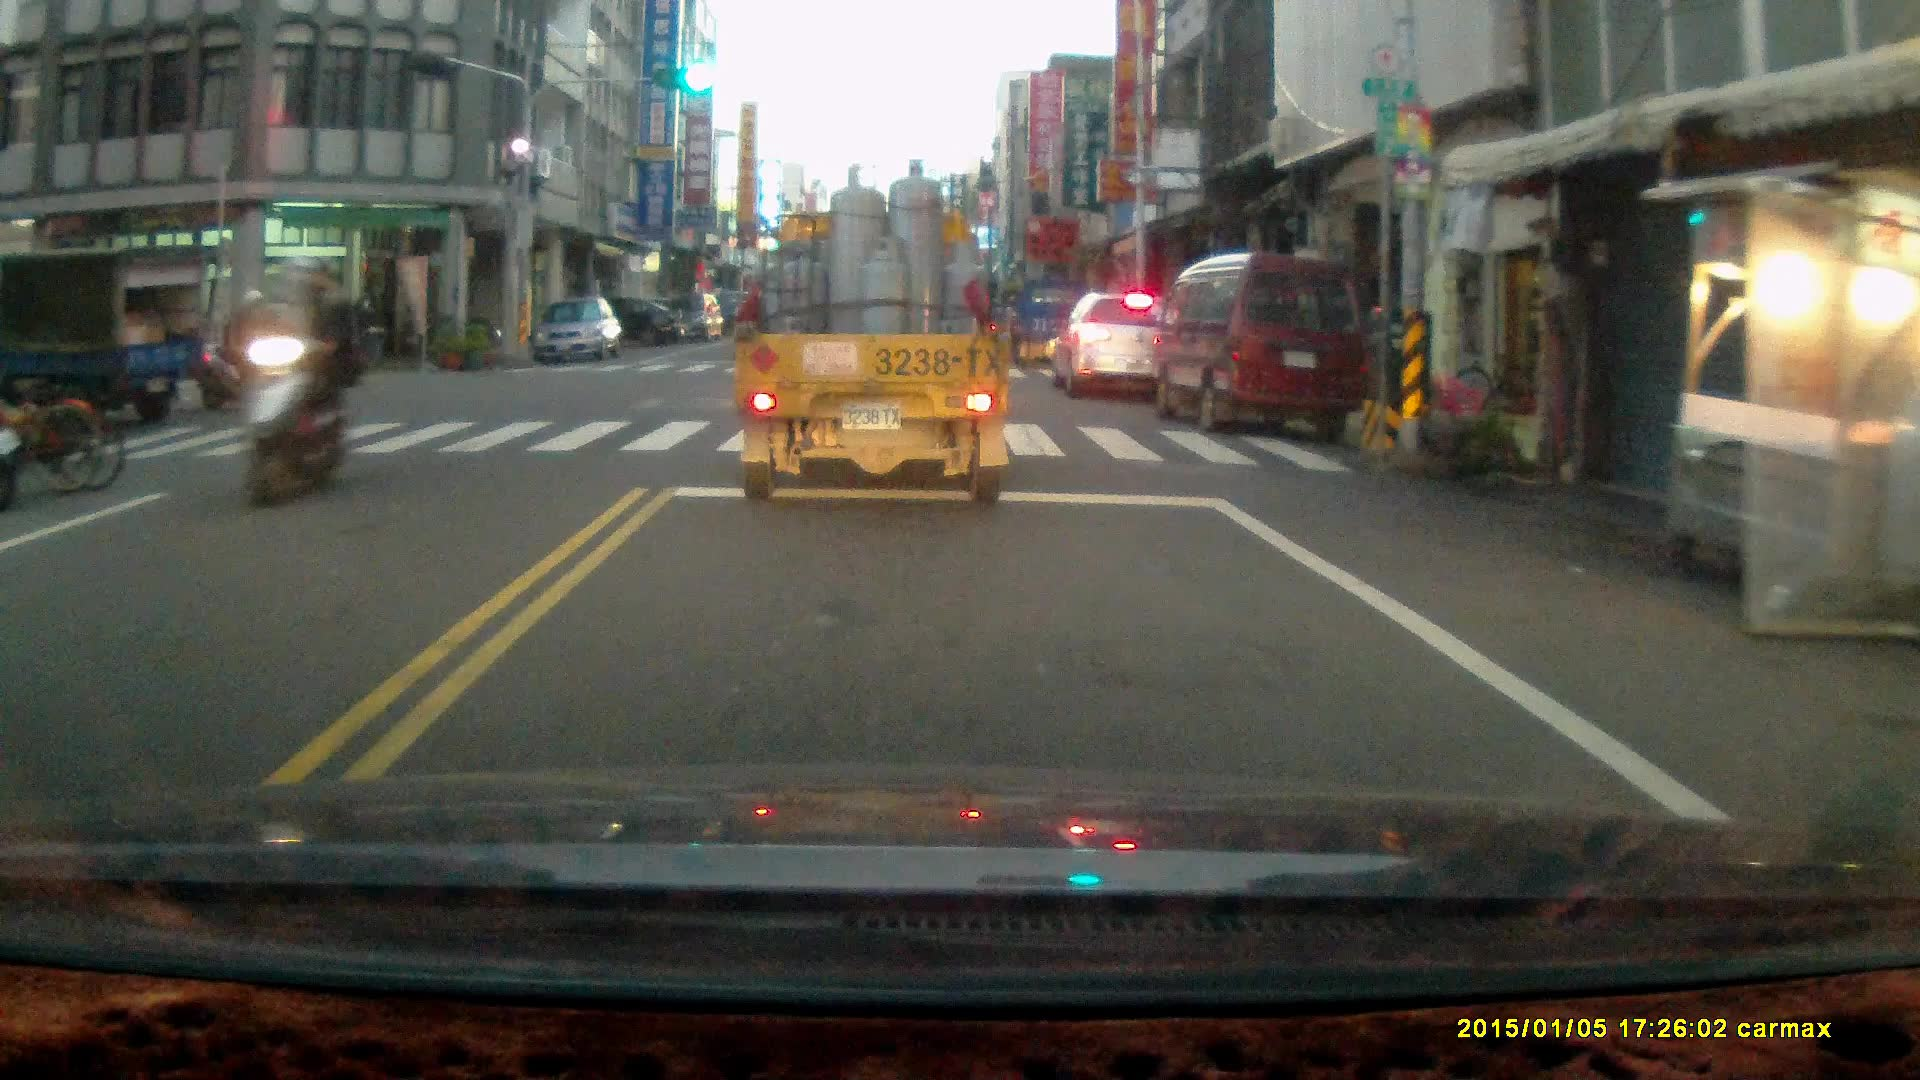pedestrian: (350, 280, 384, 373)
rider: (234, 249, 363, 507)
vehicle: (737, 166, 1014, 508), (1152, 254, 1373, 440), (1, 247, 200, 429), (1046, 290, 1190, 407), (559, 299, 684, 358), (534, 297, 628, 365), (646, 291, 724, 340)
